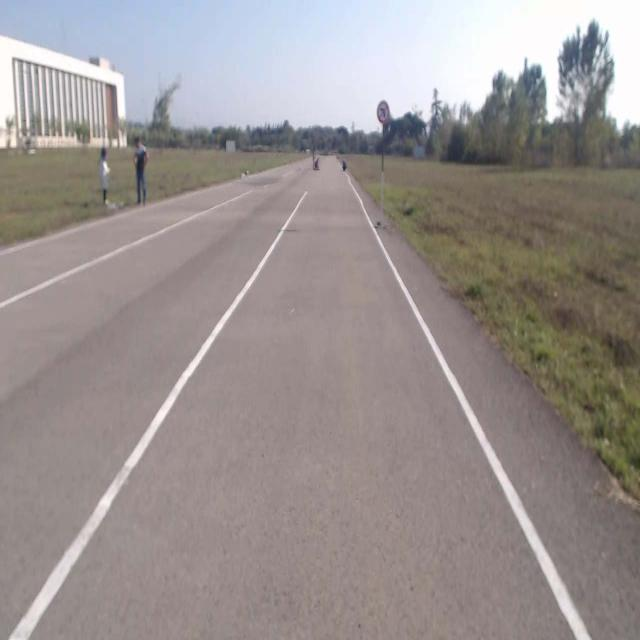soladonulmez: (377, 101, 389, 122)
